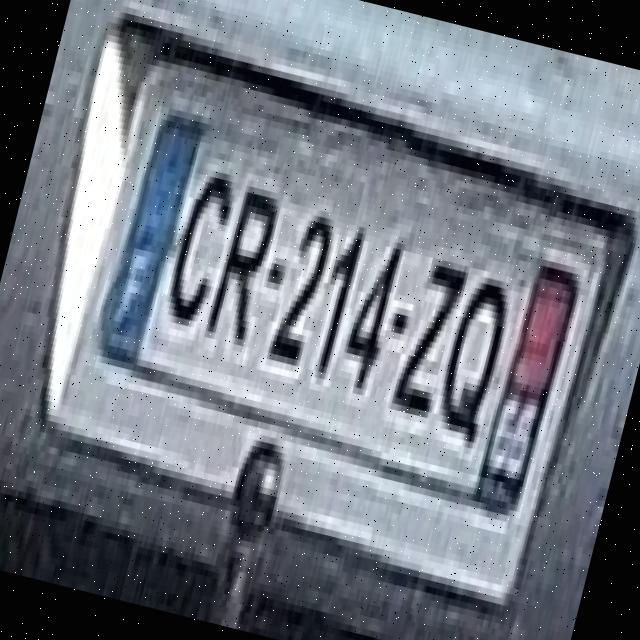EU: (90, 113, 598, 551)
France: (90, 109, 207, 365)
